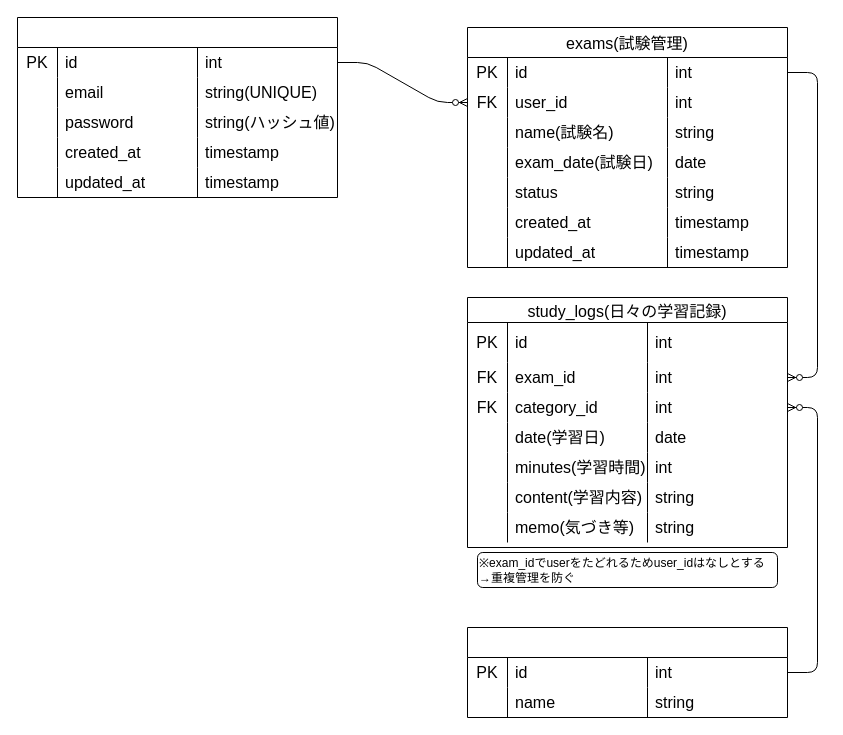
Some shapes in this 843 by 735 pixel diagram are drawn without their labels. The box of each missing label's shape, as (x1, y1, x2, y2) in pixels:
categories(学習分野): (466, 626, 788, 718)
users(ユーザーテーブル): (16, 16, 338, 198)
